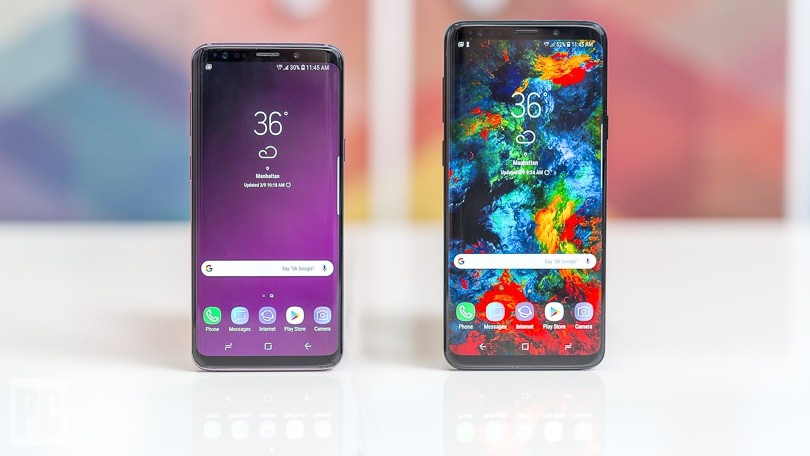phone: (438, 19, 610, 374), (186, 38, 347, 379)
